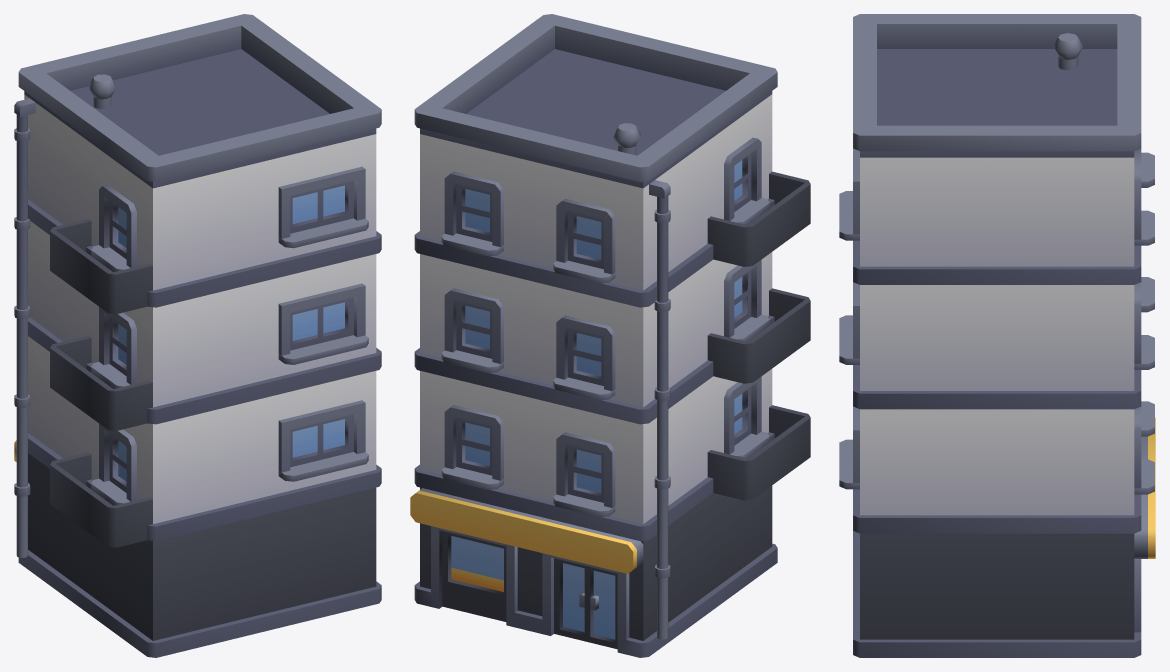
The model's file is k_c_building-g.glb.
3 views of the same model, side by side, from view 1: azimuth 30°, elevation 25°; view 2: azimuth 150°, elevation 25°; view 3: azimuth 270°, elevation 25° (orthographic). The views are drawn at different scales.
Parts seen in each view (by area): view 1: building-g; view 2: building-g; view 3: building-g.
Part boxes in pixels (left/top/right/bottom): building-g: left=14, top=14, right=381, bottom=657; building-g: left=410, top=14, right=810, bottom=657; building-g: left=839, top=14, right=1155, bottom=657.
Size of the model in its own units: 0.97 by 1.69 by 0.922.
Materials: 1 (1 with a texture image).
